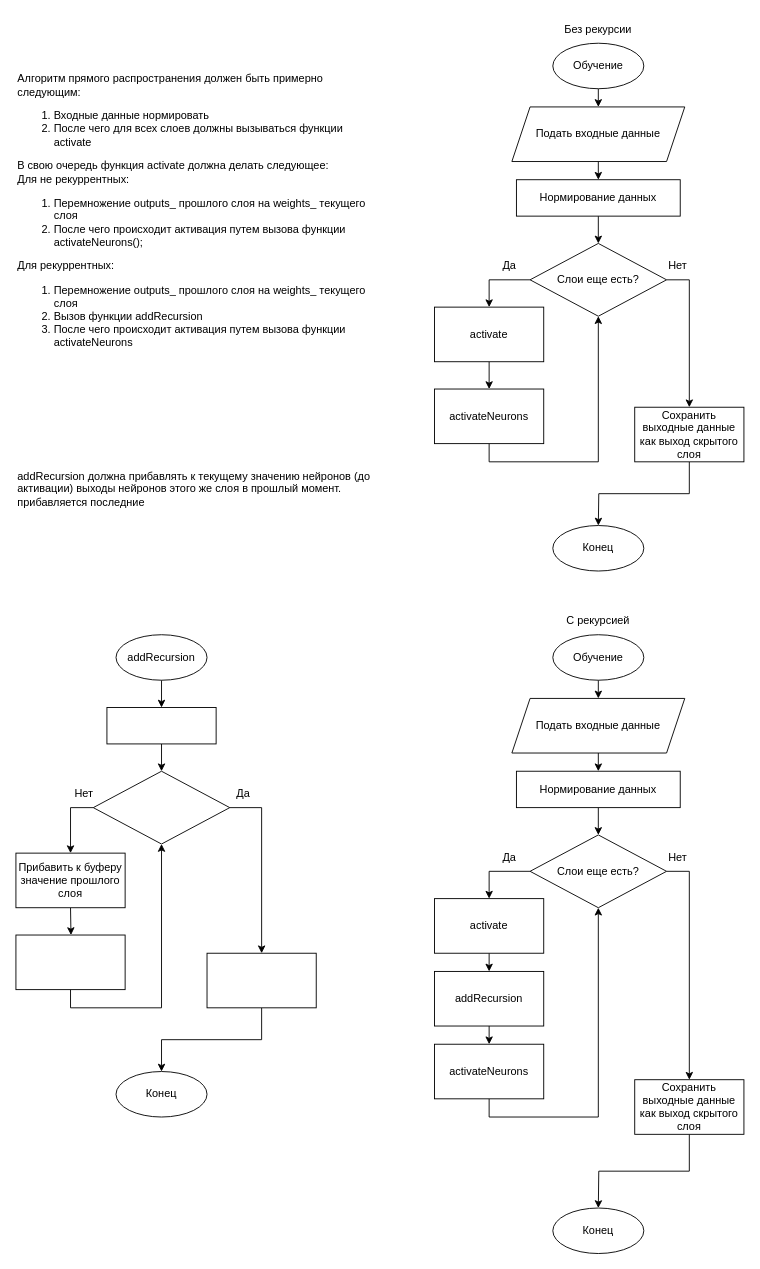
Image size: 760x1269. Some labels were removed from this diagram. Each missing label, with the centre of its shape:
Вернуть output_ buffer: point (261, 980)
Глубина рекурсии достигнута?: point (161, 807)
Создать объект RLayer buffer: point (161, 725)
Сослать buffer на прошлый слой: point (70, 962)
